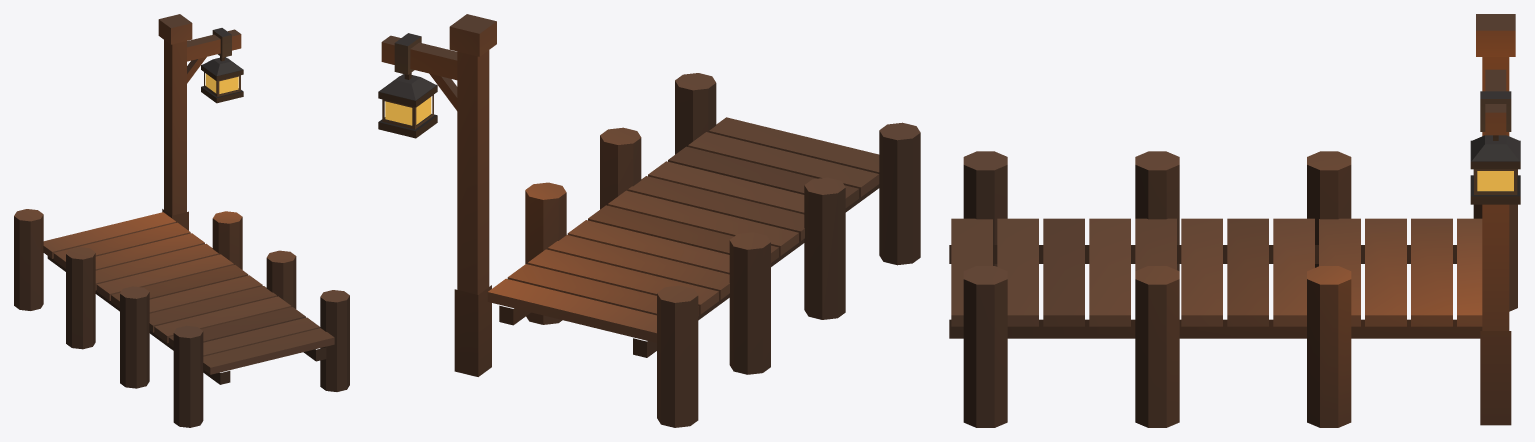
Rendered from pier.glb.
The picture shows the model from 3 angles, left to right: view 1: azimuth 30°, elevation 25°; view 2: azimuth 150°, elevation 25°; view 3: azimuth 270°, elevation 25°; orthographic projection. The views are drawn at different scales.
Parts seen in each view (by area): view 1: lit, glow; view 2: lit, glow; view 3: lit, glow.
Part boxes in pixels (bbox=[...]): lit: bbox=[14, 14, 349, 427]; glow: bbox=[205, 73, 238, 93]; lit: bbox=[378, 14, 920, 427]; glow: bbox=[385, 97, 431, 125]; lit: bbox=[949, 14, 1520, 427]; glow: bbox=[1477, 171, 1513, 191].
Bounding box in the file's own units: 3.92 × 4.2 × 5.49.
